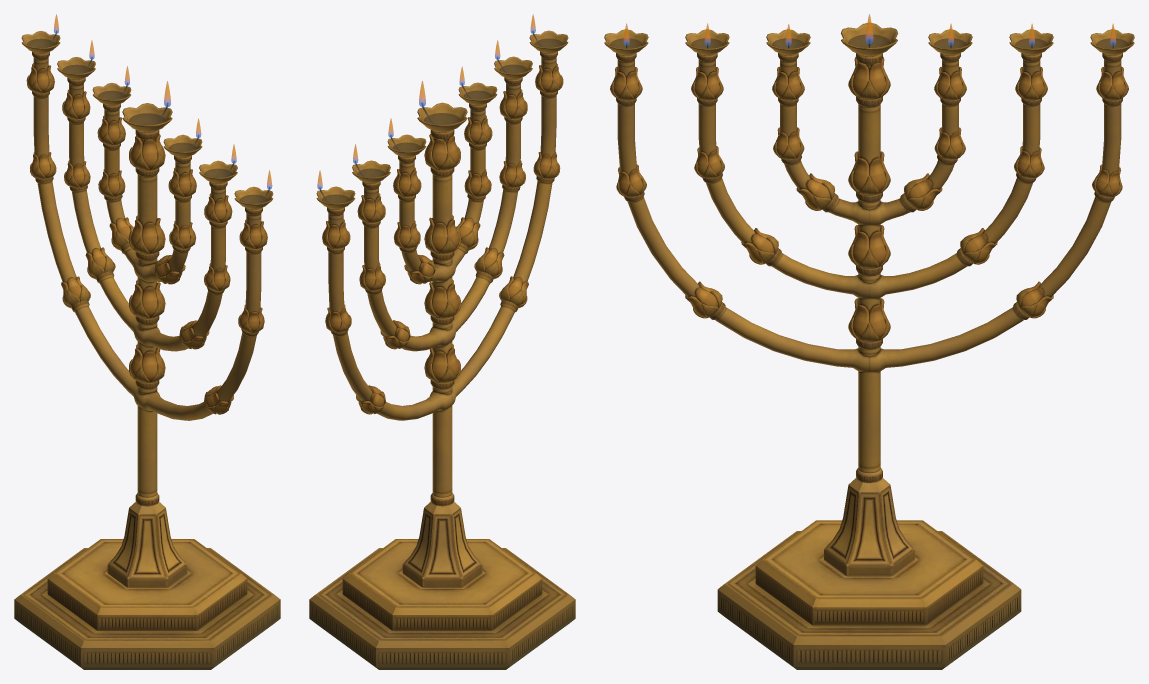
The model's file is furn_SM_GoldLampstand.glb.
The picture shows the model from 3 angles, left to right: view 1: azimuth 30°, elevation 25°; view 2: azimuth 150°, elevation 25°; view 3: azimuth 270°, elevation 25°; orthographic projection. The views are drawn at different scales.
Visible parts, largest first — view 1: SM_GoldLampstand_M_GoldLampstand_0, SM_Candles_M_Candle_0; view 2: SM_GoldLampstand_M_GoldLampstand_0, SM_Candles_M_Candle_0; view 3: SM_GoldLampstand_M_GoldLampstand_0, SM_Candles_M_Candle_0.
Boxes of the visible parts, bbox=[...] form: SM_GoldLampstand_M_GoldLampstand_0: bbox=[14, 31, 280, 669]; SM_Candles_M_Candle_0: bbox=[26, 14, 272, 203]; SM_GoldLampstand_M_GoldLampstand_0: bbox=[309, 30, 575, 669]; SM_Candles_M_Candle_0: bbox=[317, 14, 563, 203]; SM_GoldLampstand_M_GoldLampstand_0: bbox=[604, 23, 1134, 669]; SM_Candles_M_Candle_0: bbox=[610, 14, 1128, 48].
Size of the model in its own units: 0.5243 by 1.35 by 1.06.
Materials: 2 (2 with a texture image).
